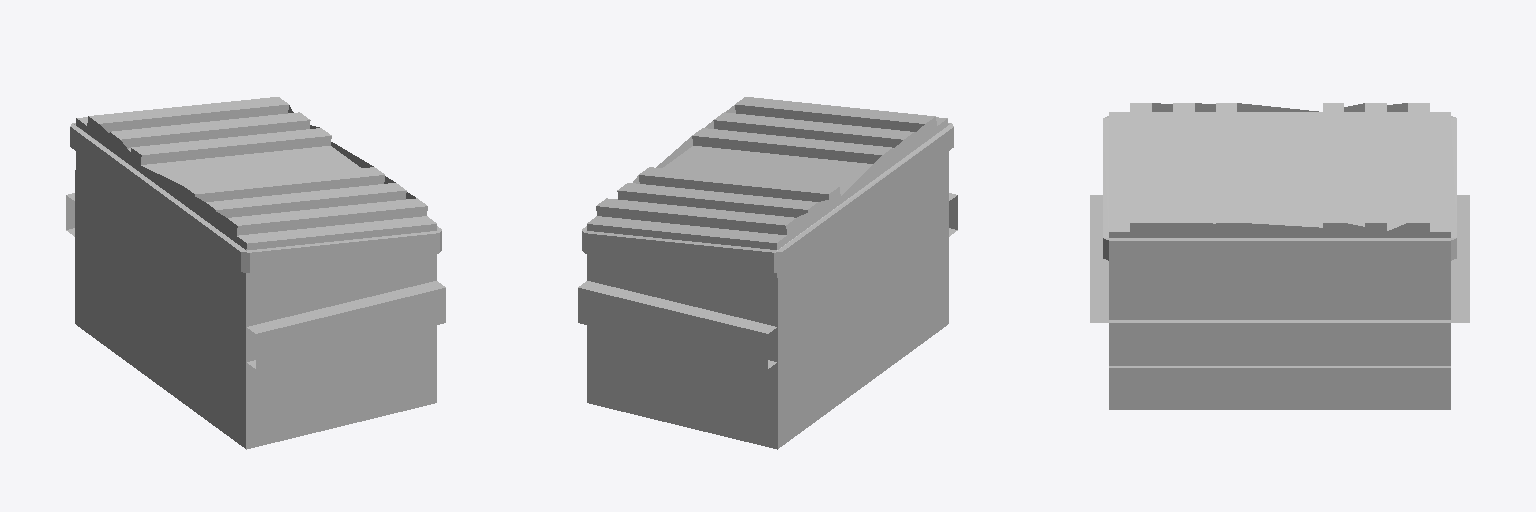
Rendered from dumpster.obj.
3 renders of one model, left to right at view 1: azimuth 30°, elevation 25°; view 2: azimuth 150°, elevation 25°; view 3: azimuth 270°, elevation 25°, orthographic.
Parts seen in each view (by area): view 1: Cube; view 2: Cube; view 3: Cube.
Part boxes in pixels (left/top/right/bottom): Cube: left=66, top=97, right=445, bottom=449; Cube: left=578, top=97, right=957, bottom=449; Cube: left=1090, top=103, right=1469, bottom=409.
Size of the model in its own units: 3.67 by 3.75 by 5.99.